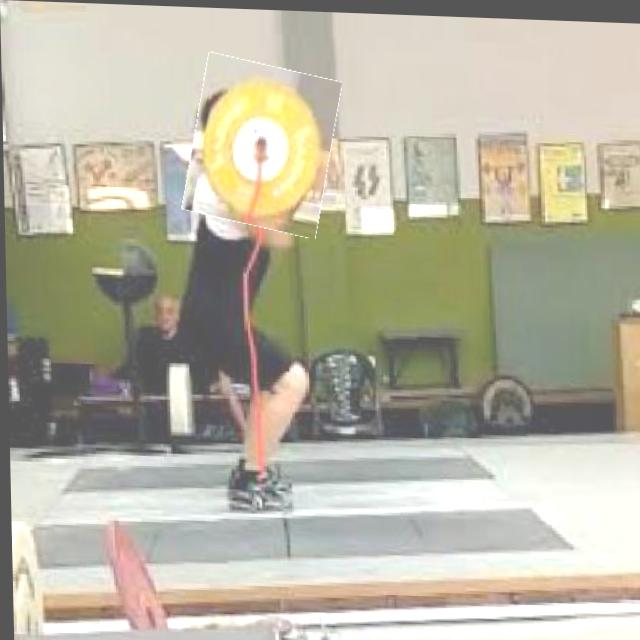barbell: (186, 56, 338, 232)
